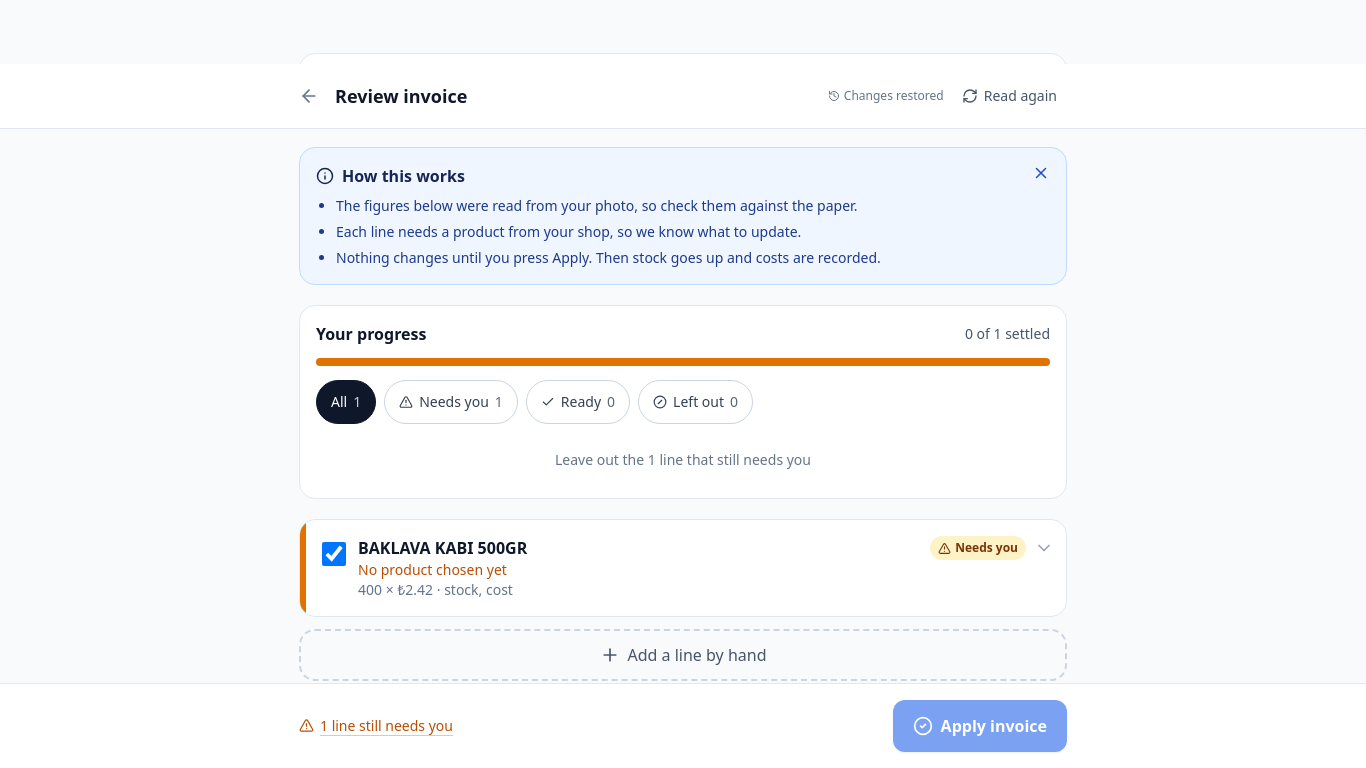
Scenario: what the screen says about the reading itself › explains a refusal to match rather than looking like it never tried
Expected: the text "BAKLAVA KABI 500GR" is shown, [358, 537, 527, 559]
Click the button "BAKLAVA KABI 500GR". click: (443, 548)
box: [358, 532, 1054, 604]
(page scrolled)
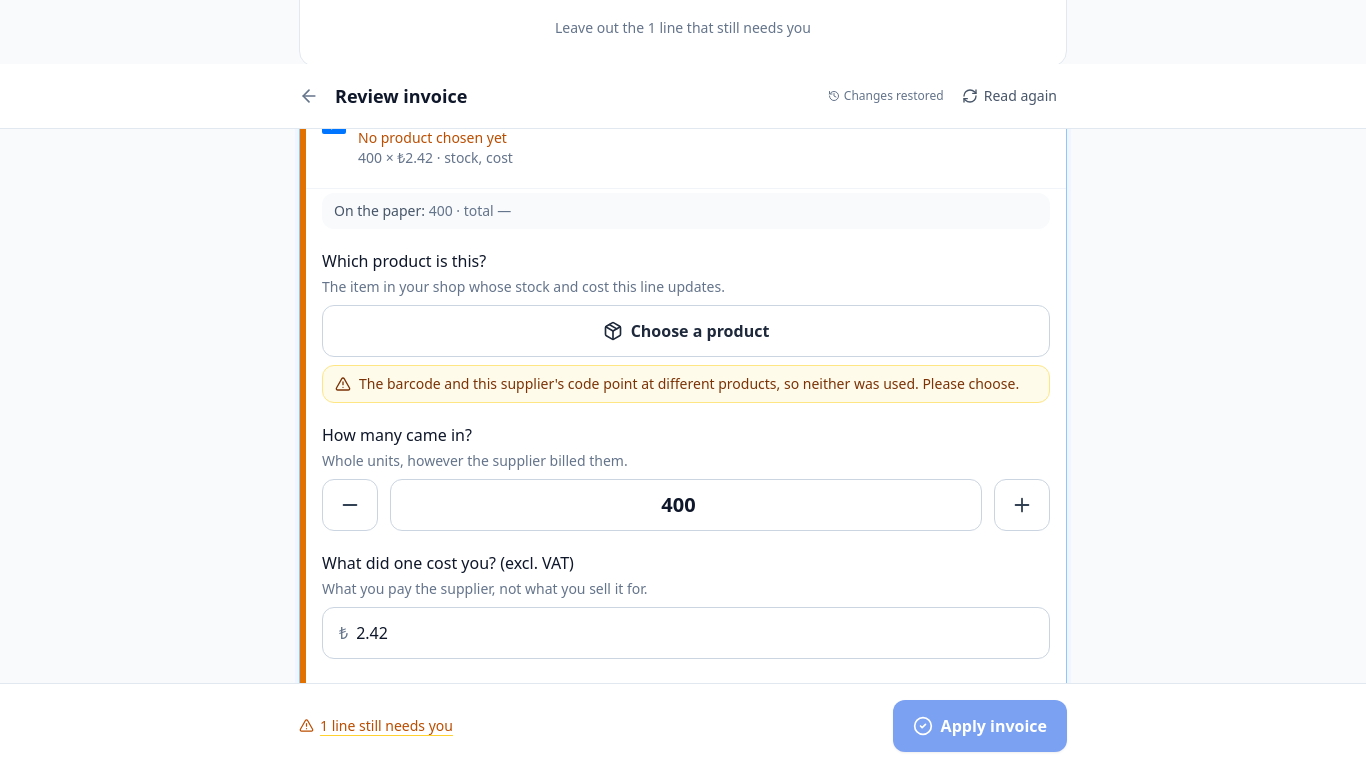
Now the text "point at different products" is shown, box [359, 374, 1019, 393]
